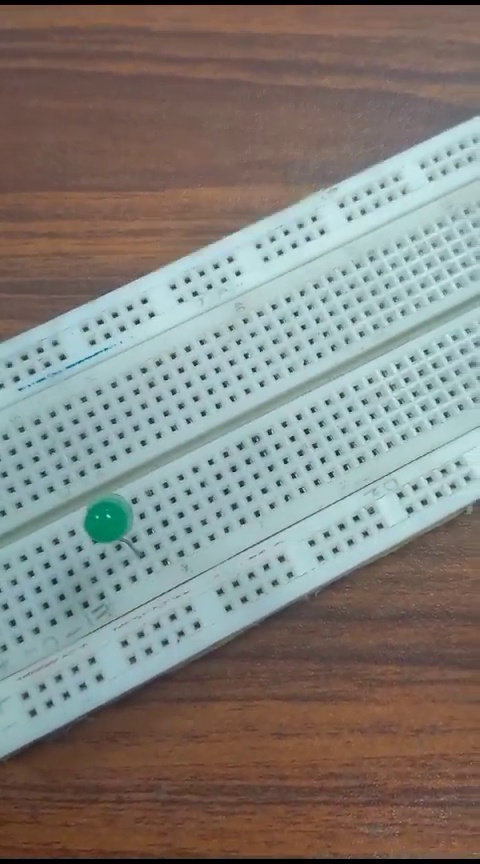LED: (75, 489, 152, 555)
